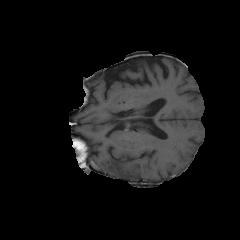glioma: (74, 140, 147, 180)
